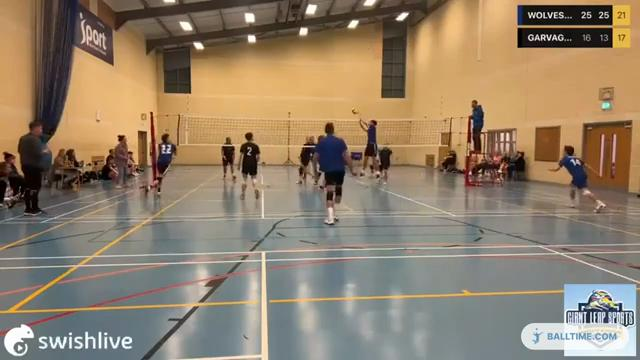Player: (314, 123, 355, 224), (549, 145, 605, 212), (238, 132, 259, 198), (155, 133, 176, 195), (297, 136, 314, 183), (221, 137, 235, 181), (379, 145, 392, 183), (312, 163, 323, 189)
Set: (354, 115, 382, 183)
ball: (352, 108, 361, 115)
